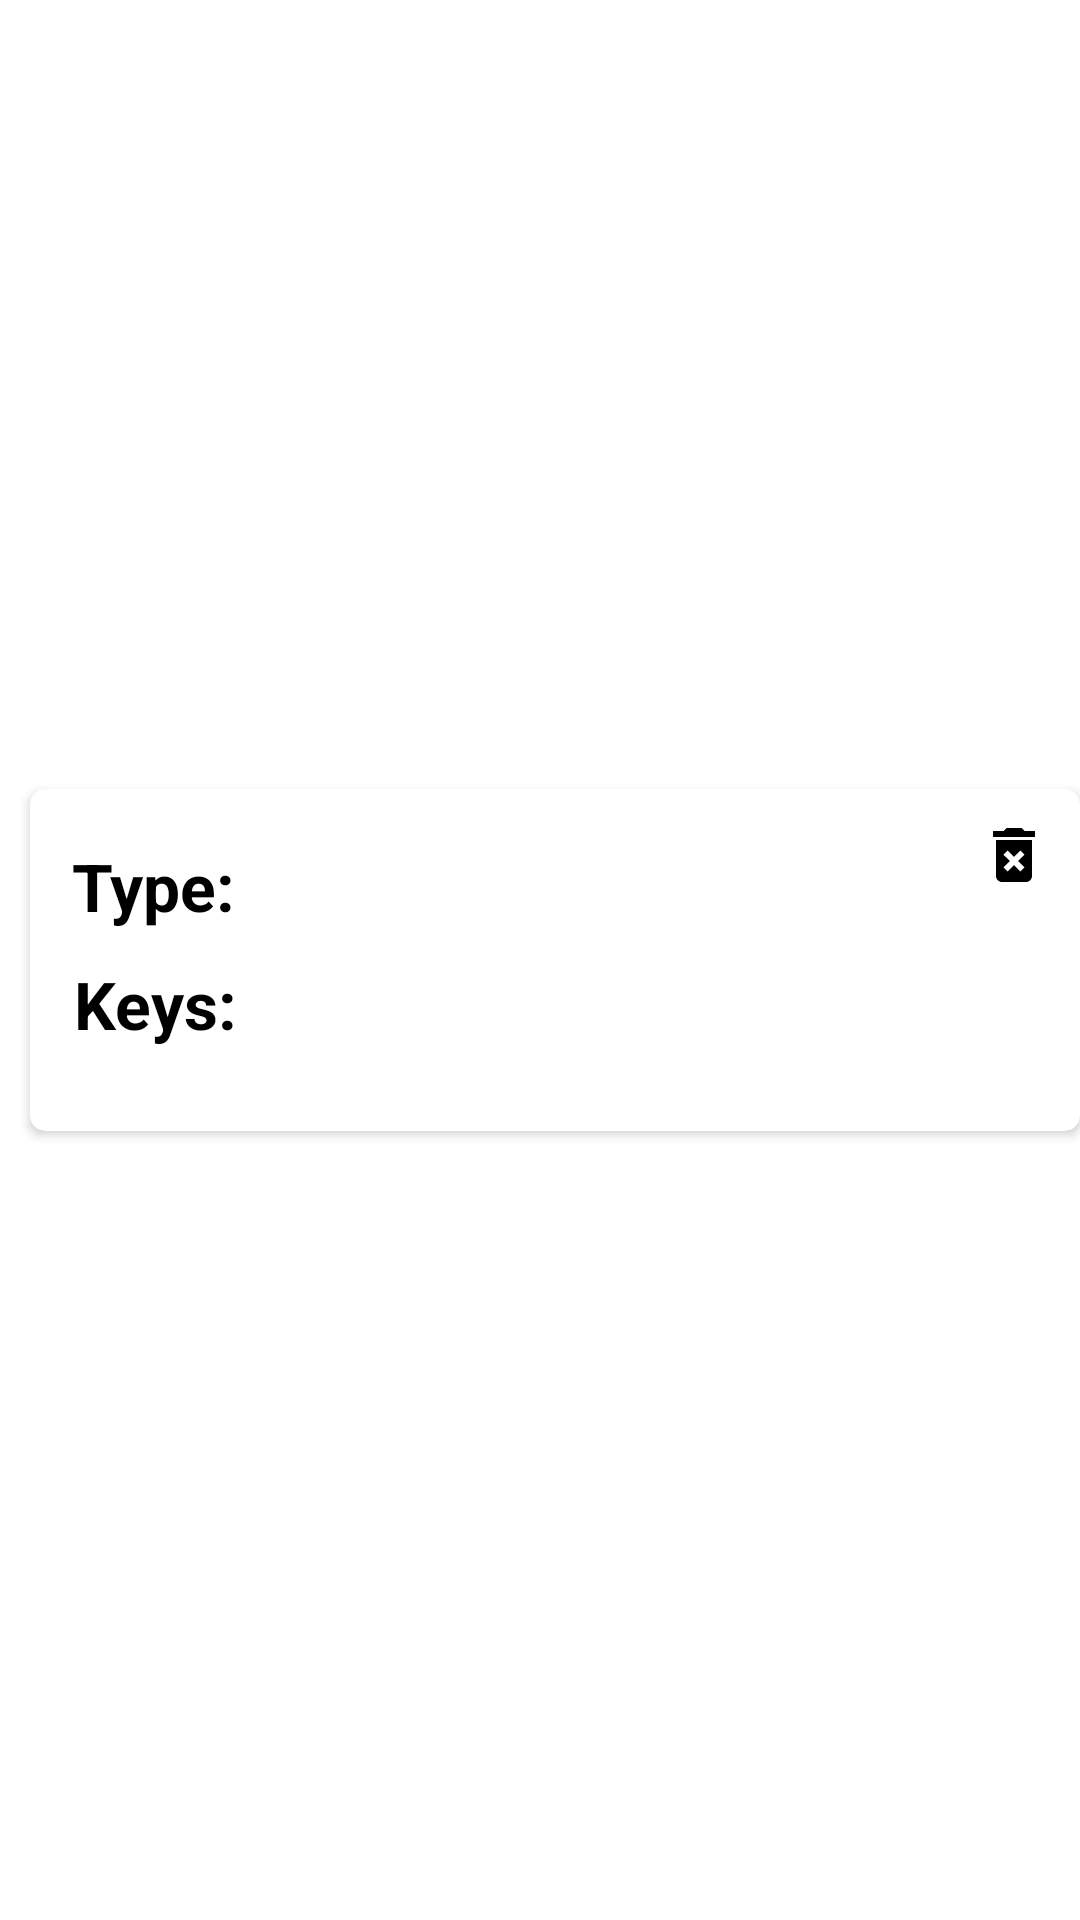

Icons on this 1080px x 1920px Android screen, each with its box as (x1=x1, y1=y1, x2=x2, y2=y2):
trashcan: (x1=993, y1=828, x2=1035, y2=882)
